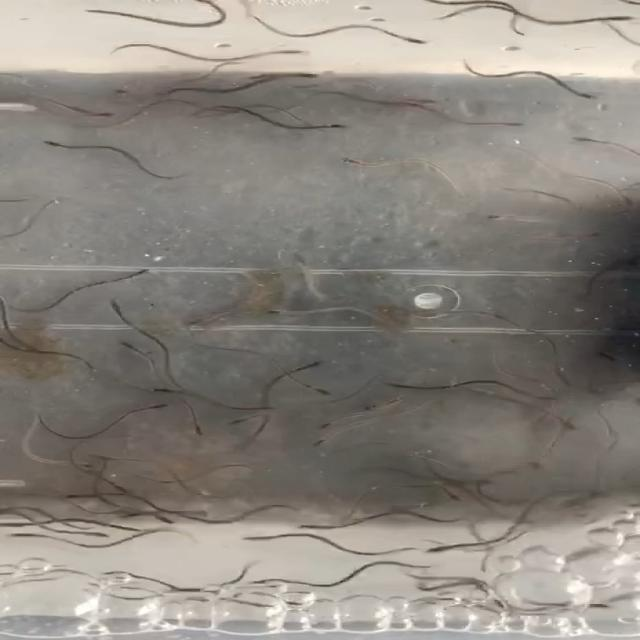active_glass_eel: (99, 250, 174, 278), (506, 379, 574, 408), (22, 130, 76, 156), (279, 517, 342, 539), (92, 295, 156, 314), (58, 485, 98, 515), (304, 437, 354, 460), (538, 417, 582, 442), (104, 333, 157, 353), (579, 83, 614, 112), (486, 209, 520, 237), (290, 414, 348, 430), (269, 69, 328, 84), (175, 421, 218, 440), (341, 153, 377, 175), (236, 530, 273, 551), (317, 120, 359, 138), (292, 386, 344, 400), (401, 538, 439, 557), (566, 130, 599, 149), (149, 399, 181, 418), (493, 117, 528, 134), (302, 354, 331, 374), (134, 382, 172, 396), (392, 36, 430, 49)
